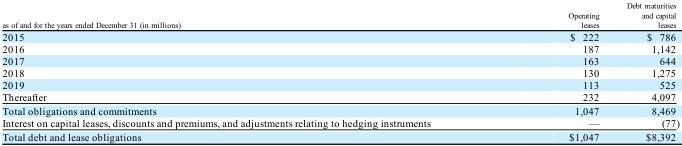table: (1, 0, 678, 142)
table column: (1, 0, 498, 142), (498, 0, 612, 142), (612, 0, 678, 142)
table column header: (1, 0, 678, 29)
table row: (1, 0, 678, 29), (1, 29, 678, 42), (1, 90, 678, 103), (1, 103, 678, 116), (1, 116, 678, 129), (1, 129, 678, 142), (1, 42, 678, 54), (1, 54, 678, 66), (1, 66, 678, 78), (1, 78, 678, 90)
